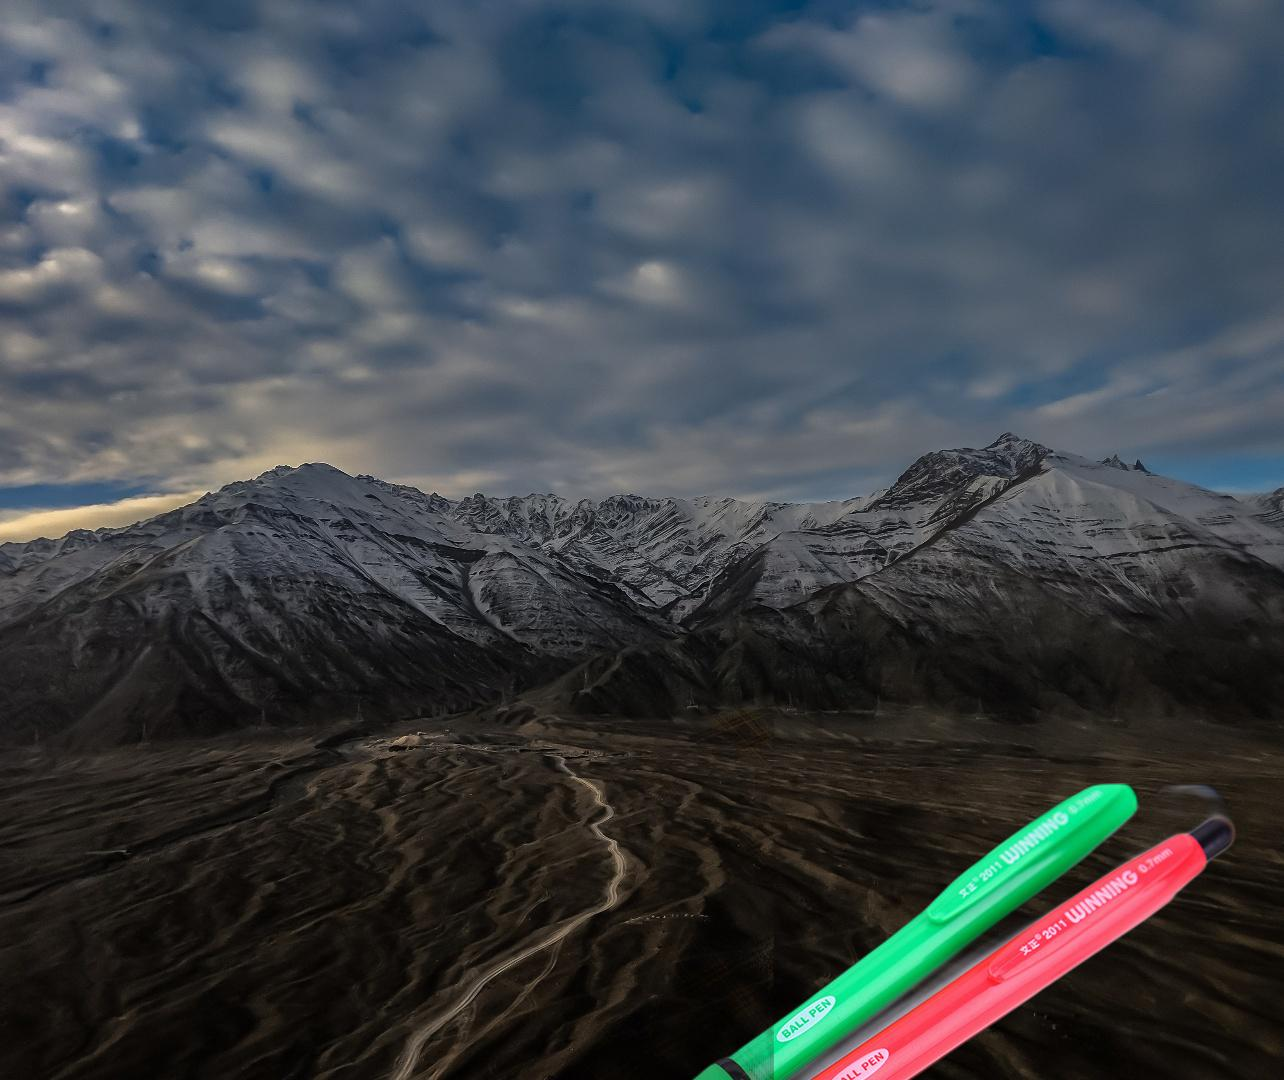glass: (262, 603, 774, 1080)
penholder: (471, 780, 1248, 1080)
